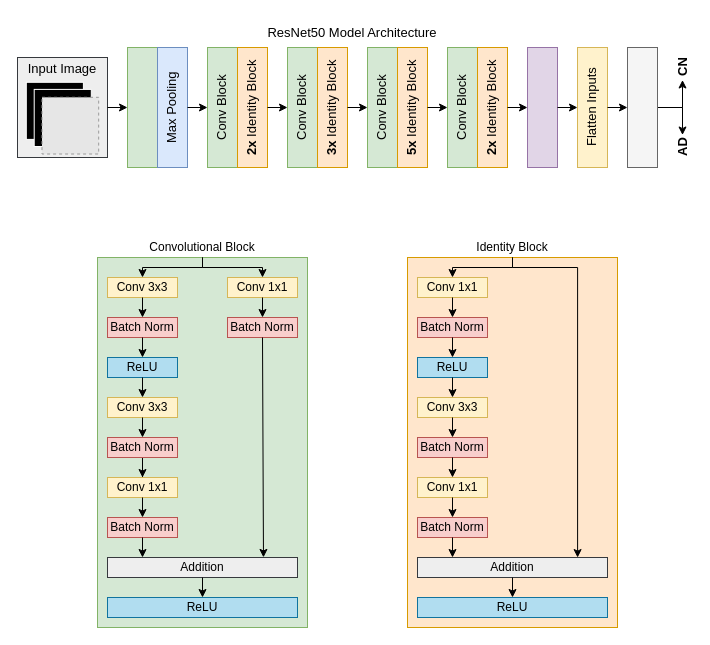
This 710x645 diagram has some shape labels left out. Grey dashed boxes stand in for pictures. The shapes that lost their labels are listed below. From the top down, each one's box as (x1, y1, x2, y2) in pixels, then its label:
(126, 46, 158, 168): Conv Block 7x7
(526, 46, 558, 168): Global Average Pooling
(626, 46, 658, 168): FC Layer
